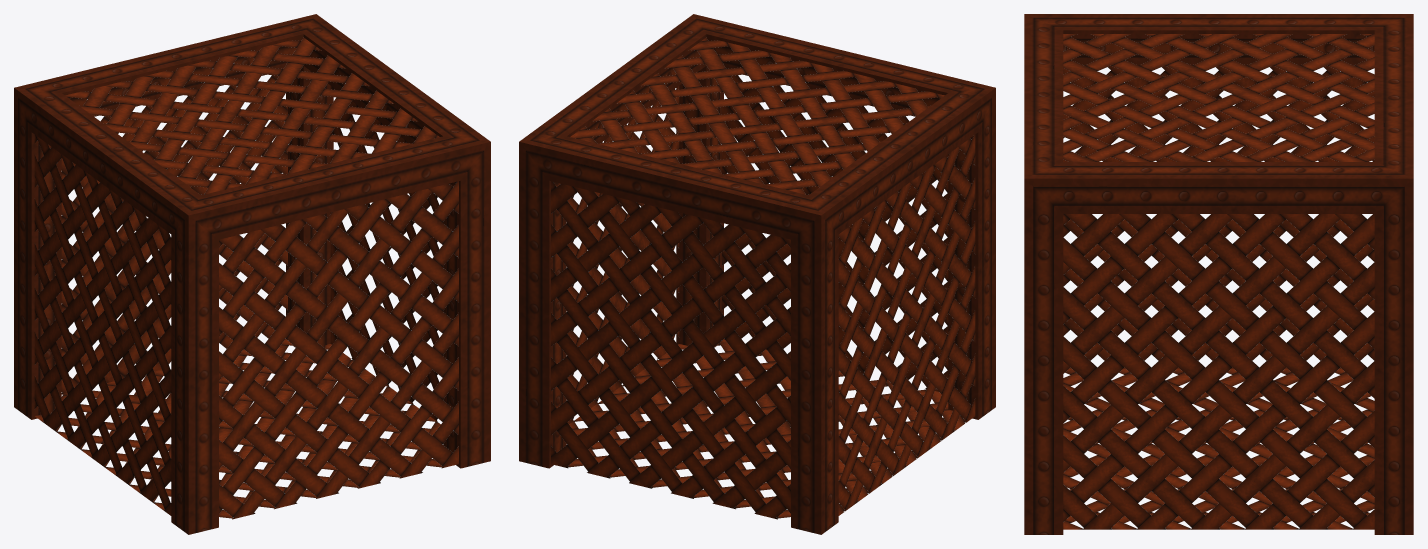
File: SM_metal_box.fbx
3 views of the same model, side by side, from view 1: azimuth 30°, elevation 25°; view 2: azimuth 150°, elevation 25°; view 3: azimuth 270°, elevation 25° (orthographic). The views are drawn at different scales.
Parts seen in each view (by area): view 1: Cube__6_; view 2: Cube__6_; view 3: Cube__6_.
Boxes of the visible parts, bbox=[...] form: Cube__6_: bbox=[14, 14, 490, 534]; Cube__6_: bbox=[519, 14, 995, 534]; Cube__6_: bbox=[1024, 14, 1413, 534].
Bounding box in the file's own units: 1000 × 1000 × 1010.
